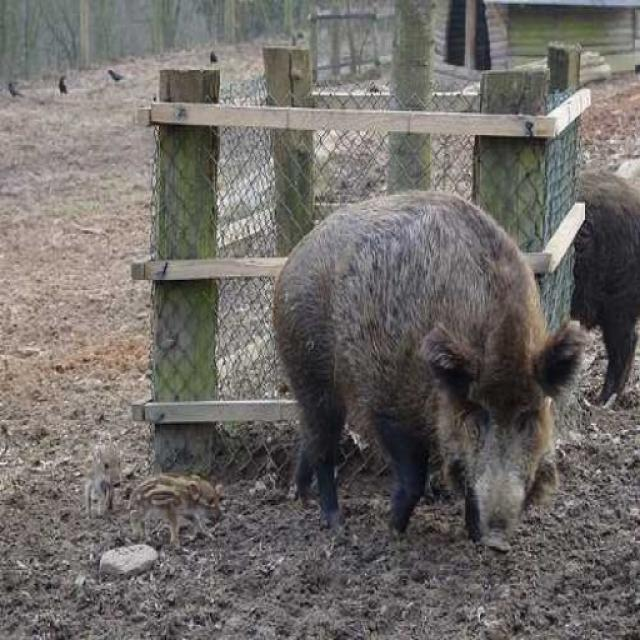pig: (257, 190, 580, 566)
